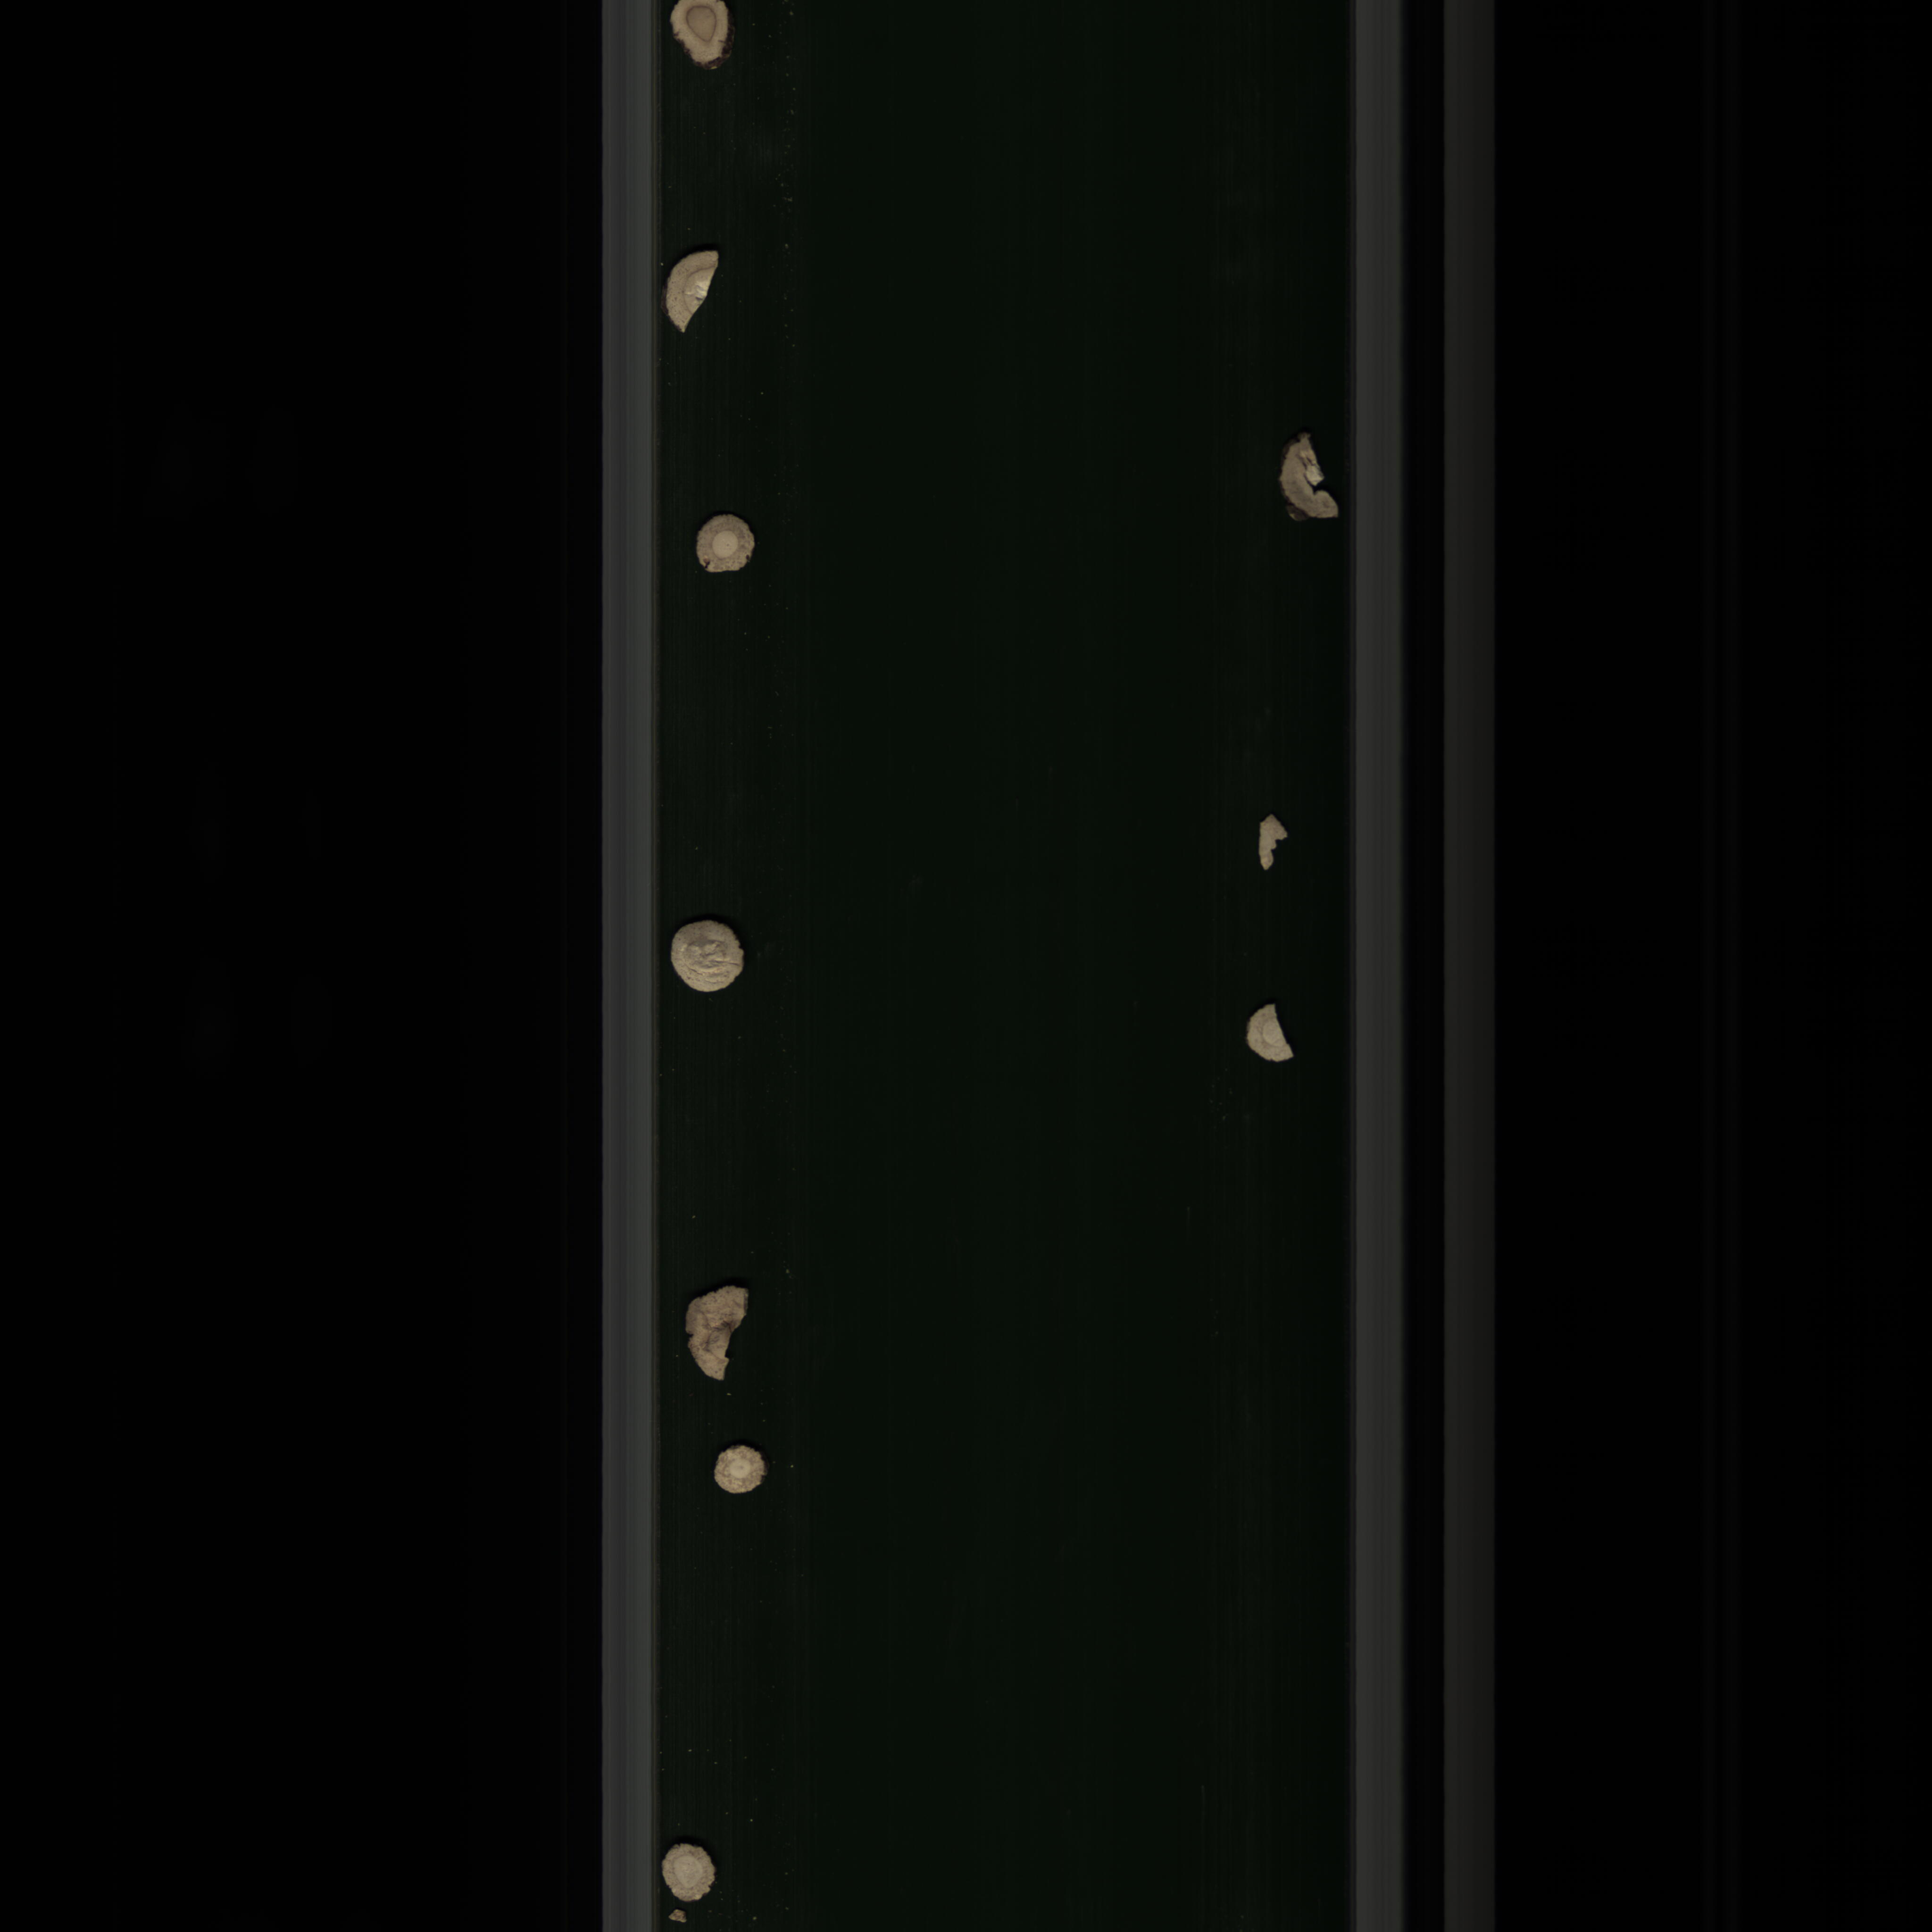debris: (1267, 430, 1348, 529), (1228, 993, 1307, 1076), (665, 244, 725, 336), (1254, 814, 1288, 874)
moldy: (685, 1269, 745, 1399), (658, 0, 736, 74)
